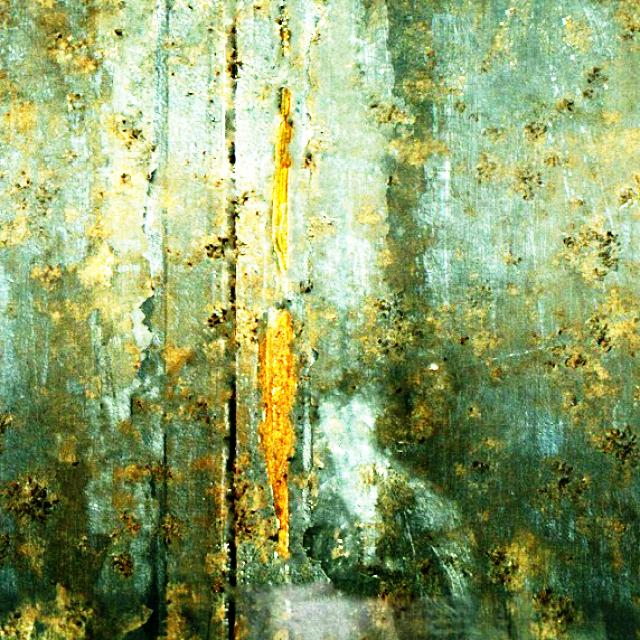Corrosion: (258, 311, 299, 556), (273, 87, 293, 274)
